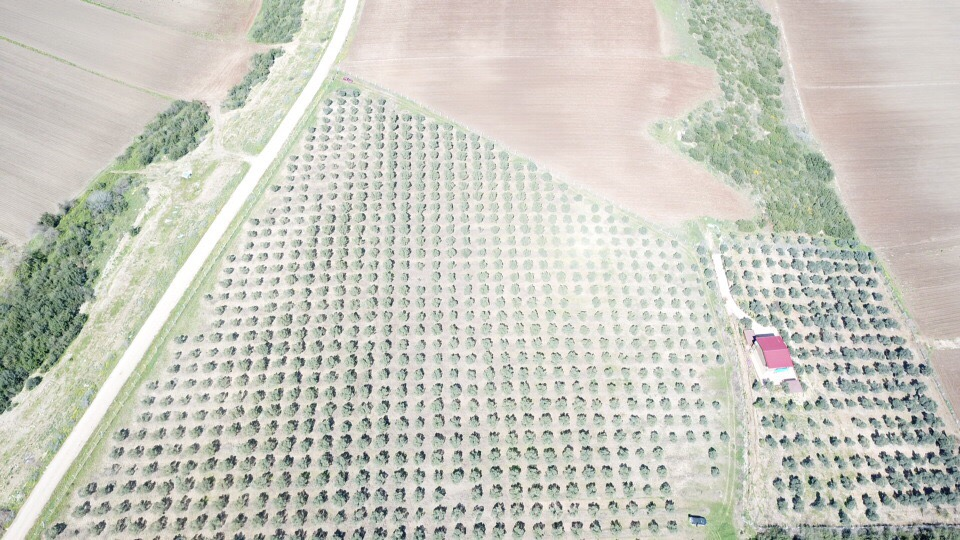oliveTree: (938, 438, 958, 462), (78, 520, 106, 537), (905, 469, 926, 489), (42, 523, 66, 540), (942, 464, 960, 486), (153, 496, 173, 515), (886, 468, 905, 488), (766, 300, 791, 315), (920, 468, 942, 485), (107, 517, 126, 536), (238, 438, 259, 455), (352, 487, 371, 505), (257, 454, 277, 471), (196, 475, 216, 492), (335, 451, 353, 469), (209, 512, 227, 530), (230, 515, 248, 533), (908, 489, 926, 507), (220, 455, 239, 472), (128, 518, 147, 535), (150, 516, 169, 533), (251, 510, 268, 529), (272, 492, 291, 509), (331, 489, 350, 506), (930, 429, 949, 446), (261, 436, 279, 453), (316, 452, 334, 469), (490, 522, 507, 540), (919, 394, 936, 412), (925, 488, 943, 505), (117, 480, 137, 495), (278, 454, 295, 471), (157, 479, 174, 496), (233, 493, 250, 510), (73, 502, 91, 518), (176, 477, 194, 493), (173, 496, 191, 512), (190, 514, 208, 530), (213, 494, 231, 510), (312, 489, 328, 507), (349, 506, 367, 522), (944, 489, 960, 507), (200, 457, 219, 472), (915, 428, 934, 443), (841, 347, 864, 359), (300, 418, 316, 435), (318, 418, 335, 434), (374, 416, 391, 432), (317, 435, 334, 451), (280, 437, 297, 453), (203, 440, 220, 456), (147, 444, 164, 460), (240, 456, 257, 472), (525, 464, 542, 480), (333, 471, 350, 487), (256, 472, 273, 488), (292, 510, 308, 527), (431, 505, 448, 521), (507, 482, 524, 498), (92, 501, 110, 516), (98, 481, 116, 496), (300, 436, 315, 454), (277, 471, 292, 489), (511, 520, 526, 538), (827, 311, 842, 329), (112, 500, 131, 514), (170, 425, 186, 441), (356, 417, 372, 433), (374, 433, 390, 449), (237, 474, 253, 490), (252, 493, 268, 509), (272, 510, 288, 526), (872, 429, 888, 445), (894, 489, 910, 505), (265, 403, 282, 418), (284, 402, 301, 417), (354, 452, 371, 467), (138, 480, 155, 495), (192, 496, 209, 511), (452, 523, 467, 540), (789, 474, 804, 491), (79, 483, 97, 497), (162, 462, 180, 476), (904, 398, 922, 412), (134, 500, 153, 513), (813, 315, 832, 328), (274, 341, 290, 356), (342, 369, 358, 384), (340, 386, 356, 401), (250, 389, 266, 404), (229, 405, 245, 420), (572, 396, 587, 412), (245, 421, 260, 437), (283, 420, 298, 436), (592, 413, 607, 429), (431, 432, 446, 448), (357, 434, 372, 450), (337, 435, 353, 450), (142, 461, 158, 476), (182, 460, 198, 475), (468, 449, 483, 465), (506, 447, 522, 462), (355, 469, 371, 484), (218, 474, 234, 489), (292, 491, 307, 507), (329, 510, 345, 525), (370, 508, 386, 523), (373, 488, 388, 504), (253, 357, 270, 371), (320, 402, 337, 416), (113, 429, 130, 443), (412, 467, 426, 484), (451, 504, 465, 521), (622, 481, 636, 498), (888, 397, 905, 411), (829, 288, 847, 301), (811, 491, 824, 509), (291, 340, 306, 355), (375, 400, 390, 415), (502, 398, 517, 413), (520, 397, 535, 412), (264, 420, 279, 435), (538, 413, 553, 428), (375, 450, 390, 465), (450, 450, 465, 465), (544, 465, 559, 480), (393, 468, 408, 483), (316, 471, 331, 486), (312, 509, 327, 524), (392, 488, 407, 503), (392, 525, 407, 540), (549, 501, 564, 516), (842, 316, 857, 331), (913, 380, 928, 395), (272, 357, 288, 371), (268, 388, 284, 402), (232, 389, 248, 403), (358, 402, 374, 416), (129, 446, 145, 460), (225, 423, 241, 437), (521, 413, 535, 429), (449, 432, 463, 448), (167, 443, 183, 457), (412, 450, 426, 466), (491, 502, 505, 518), (587, 501, 601, 517), (821, 259, 835, 275), (900, 430, 916, 444), (255, 343, 272, 356), (130, 427, 147, 440), (207, 425, 224, 438), (395, 432, 408, 449), (184, 443, 201, 456), (431, 449, 444, 466), (580, 446, 593, 463), (451, 467, 464, 484), (413, 486, 426, 503), (897, 347, 914, 360), (309, 341, 324, 355), (325, 355, 340, 369), (308, 356, 323, 370), (394, 383, 408, 398), (305, 386, 319, 401), (303, 402, 317, 417), (395, 416, 409, 431), (431, 414, 445, 429), (486, 413, 500, 428), (540, 430, 554, 445), (412, 433, 426, 448), (297, 455, 312, 469), (487, 447, 501, 462), (524, 447, 539, 461), (582, 464, 596, 479), (563, 465, 577, 480), (507, 465, 522, 479), (297, 471, 311, 486), (432, 486, 446, 501), (394, 507, 409, 521), (510, 502, 524, 517), (532, 523, 547, 537), (529, 483, 543, 498), (749, 298, 764, 312), (819, 329, 834, 343), (816, 362, 831, 376), (904, 361, 918, 376), (883, 377, 898, 391), (868, 380, 883, 394), (772, 414, 786, 429), (277, 313, 293, 326), (275, 328, 291, 341), (326, 339, 342, 352), (219, 360, 235, 373), (501, 364, 514, 380), (376, 386, 392, 399), (323, 385, 336, 401), (505, 430, 518, 446), (395, 451, 408, 467), (552, 521, 565, 537), (873, 361, 889, 374), (852, 379, 868, 392), (792, 494, 805, 510), (137, 411, 154, 423), (211, 407, 228, 419), (922, 414, 942, 424), (296, 313, 310, 327), (235, 373, 249, 387), (287, 386, 301, 400), (430, 398, 444, 412), (628, 414, 642, 428), (560, 429, 574, 443), (489, 465, 503, 479), (433, 526, 447, 540), (889, 361, 903, 375), (877, 491, 891, 505), (259, 329, 274, 342), (290, 357, 305, 370), (288, 371, 303, 384), (307, 371, 322, 384), (324, 371, 339, 384), (501, 381, 514, 396), (484, 381, 497, 396), (214, 391, 229, 404), (248, 405, 263, 418), (660, 481, 673, 496), (190, 425, 203, 440), (579, 429, 592, 444), (523, 430, 536, 445), (618, 462, 631, 477), (469, 467, 482, 482), (529, 502, 542, 517), (755, 314, 770, 327), (838, 378, 851, 393), (782, 456, 797, 469), (841, 474, 854, 489), (311, 327, 327, 339), (242, 330, 258, 342), (270, 372, 286, 384), (192, 409, 208, 421), (342, 402, 354, 418), (109, 447, 125, 459), (630, 520, 642, 536), (879, 451, 895, 463), (104, 465, 121, 476), (365, 296, 379, 309), (329, 312, 343, 325), (344, 354, 358, 367), (238, 358, 252, 371), (217, 376, 231, 389), (483, 366, 496, 380), (430, 383, 444, 396), (554, 397, 568, 410), (152, 428, 166, 441), (339, 420, 353, 433), (611, 414, 624, 428), (613, 429, 627, 442), (561, 445, 574, 459), (601, 465, 614, 479), (471, 485, 484, 499), (474, 524, 487, 538), (373, 527, 387, 540), (547, 483, 561, 496), (567, 502, 580, 516), (610, 520, 623, 534), (647, 520, 660, 534), (791, 258, 805, 271), (807, 260, 821, 273), (857, 289, 871, 302), (870, 317, 884, 330), (918, 363, 932, 376), (772, 478, 785, 492), (329, 325, 344, 337), (344, 340, 359, 352), (202, 361, 217, 373), (588, 380, 600, 395), (450, 383, 462, 398), (360, 384, 372, 399), (195, 392, 210, 404), (505, 414, 517, 429), (488, 431, 500, 446), (544, 448, 556, 463), (598, 446, 610, 461), (617, 446, 629, 461), (414, 525, 426, 540), (626, 501, 638, 516), (797, 273, 812, 285), (883, 317, 898, 329), (857, 396, 872, 408), (793, 433, 808, 445), (857, 433, 869, 448), (292, 328, 308, 339), (208, 332, 224, 343), (469, 431, 480, 447), (639, 464, 650, 480), (605, 482, 616, 498), (890, 335, 906, 346), (513, 323, 526, 336), (480, 323, 493, 336), (431, 323, 444, 336), (360, 369, 373, 382), (377, 368, 390, 381), (552, 366, 565, 379), (539, 397, 552, 410), (353, 527, 366, 540), (770, 315, 783, 328), (837, 275, 850, 288), (888, 432, 901, 445), (896, 451, 909, 464), (808, 475, 821, 488), (862, 494, 875, 507), (872, 474, 885, 487), (304, 249, 318, 261), (285, 274, 299, 286), (332, 285, 346, 297), (364, 311, 378, 323), (534, 366, 546, 380), (620, 366, 632, 380), (572, 381, 584, 395), (519, 381, 531, 395), (467, 383, 479, 397), (413, 384, 427, 396), (160, 396, 174, 408), (157, 410, 171, 422), (591, 397, 603, 411), (609, 397, 621, 411), (660, 397, 672, 411), (123, 464, 137, 476), (413, 416, 425, 430), (468, 414, 480, 428), (432, 469, 444, 483), (376, 470, 388, 484), (472, 506, 484, 520), (490, 484, 502, 498), (590, 520, 602, 534), (585, 482, 597, 496), (645, 501, 657, 515), (846, 361, 858, 375), (838, 509, 850, 523), (844, 494, 856, 508), (865, 508, 879, 520), (260, 316, 275, 327), (627, 396, 638, 411), (925, 453, 940, 464), (866, 349, 882, 359), (851, 418, 867, 428), (336, 236, 349, 248), (319, 259, 332, 271), (351, 260, 364, 272), (382, 296, 395, 308), (332, 298, 345, 310), (529, 324, 542, 336), (363, 325, 376, 337), (448, 337, 460, 350), (548, 337, 560, 350), (449, 353, 462, 365), (398, 352, 410, 365), (380, 353, 393, 365), (254, 374, 267, 386), (396, 368, 408, 381), (413, 368, 425, 381), (569, 366, 581, 379), (674, 382, 686, 395), (554, 381, 566, 394), (395, 401, 407, 414), (467, 399, 479, 412), (677, 398, 690, 410), (646, 414, 658, 427), (656, 466, 668, 479), (449, 416, 461, 429), (558, 413, 570, 426), (571, 522, 584, 534), (740, 317, 753, 329), (853, 251, 866, 263), (720, 255, 733, 267), (808, 301, 821, 313), (857, 318, 870, 330), (822, 380, 835, 392), (815, 395, 827, 408), (850, 454, 863, 466), (337, 224, 351, 235), (335, 248, 349, 259), (302, 274, 316, 285), (346, 326, 360, 337), (483, 351, 494, 365), (363, 353, 374, 367), (518, 366, 529, 380), (179, 394, 193, 405), (450, 398, 461, 412), (576, 414, 587, 428), (414, 507, 425, 521), (567, 482, 578, 496), (850, 275, 864, 286), (799, 315, 813, 326), (802, 286, 816, 297), (844, 288, 858, 299), (836, 303, 850, 314), (824, 348, 838, 359), (899, 382, 913, 393), (873, 397, 887, 408), (908, 416, 922, 427), (864, 455, 879, 465), (383, 271, 395, 283), (447, 297, 459, 309), (349, 298, 361, 310), (563, 324, 575, 336), (381, 325, 393, 337), (241, 344, 253, 356), (379, 339, 391, 351), (564, 338, 576, 350), (533, 352, 545, 364), (623, 382, 635, 394), (536, 383, 548, 395), (414, 400, 426, 412), (667, 520, 679, 532), (608, 502, 620, 514), (731, 283, 743, 295), (791, 331, 803, 343), (788, 286, 800, 298), (871, 290, 883, 302), (877, 334, 889, 346), (884, 416, 896, 428), (340, 202, 353, 213), (399, 224, 412, 235), (307, 225, 320, 236), (353, 235, 366, 246), (335, 260, 348, 271), (366, 260, 379, 271), (334, 273, 347, 284), (299, 287, 312, 298), (512, 296, 523, 309), (298, 300, 311, 311), (348, 312, 361, 323), (432, 310, 443, 323), (498, 323, 509, 336), (223, 346, 236, 357), (361, 341, 374, 352), (481, 337, 492, 350), (664, 337, 675, 350), (566, 352, 579, 363), (516, 352, 529, 363), (465, 353, 478, 364), (164, 380, 177, 391), (586, 366, 597, 379), (486, 398, 497, 411), (805, 332, 818, 343), (774, 287, 787, 298), (783, 273, 796, 284), (797, 348, 810, 359), (793, 362, 804, 375), (765, 434, 776, 447), (779, 435, 790, 448), (815, 453, 828, 464), (225, 332, 239, 342), (185, 364, 199, 374), (146, 380, 160, 390), (182, 379, 196, 389), (199, 378, 213, 388), (646, 397, 656, 411), (632, 430, 642, 444), (858, 264, 872, 274), (865, 278, 879, 288), (810, 275, 824, 285), (174, 335, 189, 344), (142, 396, 157, 405), (384, 213, 396, 224), (399, 212, 411, 223), (461, 247, 472, 259), (400, 247, 412, 258), (353, 247, 365, 258), (322, 248, 334, 259), (383, 259, 395, 270), (478, 271, 490, 282), (654, 297, 665, 309), (464, 297, 476, 308), (398, 298, 410, 309), (317, 299, 329, 310), (512, 311, 524, 322), (545, 309, 556, 321), (577, 310, 588, 322), (448, 324, 460, 335), (414, 324, 425, 336), (398, 325, 410, 336), (397, 339, 409, 350), (532, 337, 543, 349), (582, 338, 593, 350), (599, 337, 610, 349), (631, 339, 643, 350), (551, 353, 563, 364), (433, 353, 444, 365), (416, 352, 427, 364), (432, 368, 443, 380), (603, 366, 614, 378), (653, 366, 664, 378), (606, 382, 617, 394), (597, 431, 608, 443), (840, 250, 852, 261), (760, 244, 772, 255), (746, 285, 758, 296), (834, 261, 845, 273), (816, 288, 828, 299), (849, 332, 860, 344), (896, 416, 907, 428), (912, 452, 923, 464), (834, 456, 845, 468), (856, 472, 867, 484), (472, 191, 485, 201), (354, 202, 367, 212), (321, 237, 334, 247), (382, 248, 395, 258), (528, 297, 538, 310), (281, 301, 294, 311), (399, 310, 409, 323), (548, 322, 558, 335), (617, 352, 630, 362), (167, 364, 180, 374), (638, 367, 648, 380), (175, 411, 188, 421), (694, 397, 704, 410), (664, 414, 674, 427), (653, 446, 663, 459), (665, 499, 675, 512), (741, 271, 754, 281), (793, 303, 806, 313), (777, 259, 790, 269), (862, 333, 875, 343), (769, 399, 782, 409), (830, 398, 843, 408), (270, 264, 284, 273), (264, 303, 278, 312), (205, 348, 219, 357), (330, 531, 344, 540), (752, 398, 766, 407), (430, 224, 441, 235), (415, 224, 426, 235), (385, 235, 396, 246), (611, 236, 622, 247), (523, 259, 534, 270), (541, 271, 552, 282), (509, 272, 520, 283), (493, 271, 504, 282), (367, 272, 378, 283), (268, 289, 279, 300), (432, 284, 443, 295), (479, 284, 490, 295), (510, 284, 521, 295), (541, 284, 552, 295), (557, 285, 568, 296), (480, 297, 491, 308), (496, 311, 507, 322), (657, 311, 668, 322), (673, 311, 684, 322), (677, 326, 688, 337), (415, 340, 426, 351), (584, 352, 595, 363), (501, 351, 512, 362), (681, 414, 692, 425), (703, 268, 714, 279), (780, 331, 791, 342), (826, 277, 837, 288), (785, 399, 796, 410), (388, 110, 398, 122), (414, 113, 426, 123), (302, 153, 314, 163), (484, 161, 496, 171), (399, 161, 411, 171), (400, 171, 412, 181), (429, 171, 441, 181), (457, 171, 469, 181), (356, 191, 368, 201), (458, 202, 470, 212), (400, 202, 412, 212), (324, 214, 336, 224), (354, 213, 366, 223), (323, 225, 335, 235), (287, 262, 299, 272), (303, 261, 315, 271), (572, 271, 582, 283), (319, 273, 331, 283), (235, 291, 247, 301), (283, 288, 295, 298), (317, 286, 329, 296), (383, 285, 395, 295), (215, 305, 227, 315), (245, 316, 257, 326), (383, 311, 393, 323), (448, 310, 458, 322), (190, 348, 202, 358), (516, 338, 526, 350), (668, 352, 678, 364), (650, 353, 662, 363), (449, 368, 459, 380), (710, 466, 720, 478), (686, 430, 696, 442), (668, 432, 678, 444), (643, 484, 653, 496), (845, 263, 857, 273), (802, 248, 814, 258), (788, 247, 800, 257), (863, 305, 875, 315), (884, 350, 896, 360), (827, 477, 837, 489), (455, 142, 468, 151), (496, 296, 505, 309), (500, 338, 509, 351), (708, 447, 717, 460), (650, 430, 659, 443), (788, 344, 797, 357), (401, 112, 412, 122), (455, 131, 466, 141), (387, 150, 398, 160), (499, 151, 509, 162), (386, 161, 397, 171), (287, 163, 298, 173), (444, 171, 455, 181), (415, 181, 426, 191), (401, 181, 412, 191), (386, 181, 397, 191), (532, 202, 543, 212), (518, 202, 528, 213), (488, 203, 499, 213), (415, 203, 426, 213), (369, 213, 380, 223), (534, 225, 545, 235), (461, 224, 471, 235), (355, 225, 366, 235), (307, 238, 318, 248), (370, 235, 380, 246), (416, 236, 426, 247), (431, 236, 442, 246), (445, 236, 456, 246), (491, 237, 502, 247), (536, 235, 546, 246), (580, 237, 591, 247), (508, 248, 518, 259), (447, 247, 457, 258), (370, 248, 380, 259), (400, 259, 410, 270), (463, 273, 474, 283), (351, 273, 362, 283), (367, 285, 378, 295), (494, 284, 505, 294), (526, 284, 536, 295), (668, 286, 678, 297), (685, 300, 696, 310), (670, 298, 681, 308), (433, 297, 443, 308), (416, 298, 426, 309), (315, 314, 326, 324), (480, 311, 491, 321), (562, 311, 572, 322), (642, 311, 652, 322), (661, 324, 671, 335), (612, 324, 623, 334), (465, 325, 476, 335), (433, 339, 443, 350), (466, 338, 476, 349), (616, 337, 626, 348), (648, 339, 658, 350), (672, 368, 682, 379), (658, 383, 668, 394), (635, 448, 645, 459), (697, 245, 707, 256), (765, 257, 776, 267), (850, 305, 861, 315), (803, 365, 814, 375), (833, 363, 843, 374), (862, 365, 873, 375), (812, 437, 823, 447), (829, 436, 840, 446), (801, 457, 812, 467), (320, 124, 332, 133), (401, 131, 413, 140), (401, 141, 413, 150), (359, 141, 371, 150), (414, 152, 426, 161), (456, 152, 468, 161), (471, 161, 483, 170), (429, 161, 441, 170), (414, 171, 426, 180), (471, 171, 483, 180), (444, 182, 456, 191), (370, 192, 382, 201), (263, 217, 275, 226), (339, 214, 351, 223), (519, 225, 531, 234), (255, 265, 267, 274), (220, 279, 232, 288), (349, 287, 361, 296), (467, 369, 476, 381), (786, 317, 795, 329), (845, 398, 857, 407), (777, 497, 786, 509), (212, 320, 225, 328), (527, 162, 537, 172), (373, 160, 383, 170), (358, 161, 368, 171), (501, 172, 511, 182), (515, 172, 525, 182), (416, 192, 426, 202), (488, 192, 498, 202), (561, 204, 571, 214), (415, 213, 425, 223), (489, 214, 499, 224), (519, 215, 529, 225), (548, 214, 558, 224), (563, 215, 573, 225), (400, 236, 410, 246), (521, 236, 531, 246), (626, 237, 636, 247), (538, 248, 548, 258), (492, 248, 502, 258), (493, 259, 503, 269), (509, 260, 519, 270), (539, 260, 549, 270), (557, 272, 567, 282), (525, 272, 535, 282), (252, 290, 262, 300), (400, 285, 410, 295), (416, 286, 426, 296), (447, 285, 457, 295), (589, 285, 599, 295), (623, 298, 633, 308), (465, 311, 475, 321), (529, 311, 539, 321), (626, 311, 636, 321), (689, 313, 699, 323), (692, 326, 702, 336), (629, 325, 639, 335), (580, 325, 590, 335), (696, 340, 706, 350), (691, 384, 701, 394), (702, 430, 712, 440), (706, 280, 716, 290), (770, 234, 780, 244), (817, 249, 827, 259), (726, 270, 736, 280), (761, 288, 771, 298), (807, 417, 817, 427), (428, 122, 439, 131), (415, 123, 426, 132), (334, 124, 345, 133), (373, 132, 384, 141), (469, 132, 480, 141), (484, 142, 495, 151), (428, 141, 439, 150), (387, 141, 398, 150), (358, 151, 369, 160), (400, 151, 411, 160), (470, 151, 481, 160), (499, 162, 510, 171), (343, 171, 354, 180), (485, 172, 496, 181), (542, 173, 553, 182), (342, 192, 353, 201), (386, 192, 397, 201), (429, 192, 440, 201), (459, 192, 470, 201), (516, 192, 527, 201), (279, 216, 290, 225), (565, 225, 576, 234), (550, 226, 561, 235), (490, 225, 501, 234), (446, 224, 455, 235), (384, 225, 395, 234), (565, 237, 576, 246), (676, 262, 685, 273), (289, 250, 300, 259), (446, 261, 457, 270), (587, 272, 596, 283), (464, 284, 473, 295), (574, 284, 583, 295), (605, 285, 614, 296), (592, 297, 601, 308), (544, 297, 553, 308), (417, 311, 426, 322), (595, 311, 604, 322), (611, 310, 620, 321), (645, 325, 654, 336), (680, 339, 689, 350), (683, 354, 694, 363), (635, 352, 644, 363), (642, 383, 651, 394), (720, 431, 729, 442), (849, 239, 860, 248), (771, 274, 782, 283), (752, 380, 761, 391), (761, 416, 770, 427), (374, 114, 386, 122), (318, 134, 330, 142), (441, 132, 453, 140), (373, 141, 385, 149), (484, 152, 496, 160), (357, 182, 369, 190), (291, 240, 303, 248), (193, 334, 205, 342), (701, 353, 709, 365), (843, 437, 855, 445), (875, 306, 888, 313), (346, 132, 356, 141), (443, 141, 453, 150), (415, 141, 425, 150), (345, 151, 355, 160), (514, 162, 524, 171), (527, 173, 537, 182), (544, 183, 554, 192), (559, 183, 569, 192), (529, 182, 539, 191), (515, 182, 525, 191), (488, 182, 498, 191), (459, 182, 469, 191), (430, 182, 440, 191), (373, 181, 383, 190), (328, 182, 338, 191), (445, 192, 455, 201), (502, 192, 512, 201), (531, 192, 541, 201), (545, 193, 555, 202), (547, 203, 557, 212), (504, 202, 513, 212), (430, 203, 440, 212), (386, 202, 396, 211), (312, 203, 322, 212), (281, 205, 291, 214), (431, 213, 440, 223), (460, 214, 470, 223), (475, 214, 485, 223), (505, 214, 515, 223), (534, 214, 543, 224), (580, 225, 590, 234), (506, 225, 516, 234), (370, 225, 380, 234), (262, 228, 272, 237), (244, 242, 254, 251), (462, 236, 471, 246), (552, 237, 561, 247), (595, 238, 605, 247), (641, 238, 650, 248), (655, 239, 665, 248), (691, 262, 700, 272), (477, 248, 487, 257), (417, 248, 426, 258), (479, 259, 488, 269), (631, 260, 640, 270), (664, 273, 673, 283), (634, 273, 643, 283), (432, 272, 441, 282), (270, 277, 280, 286), (652, 286, 661, 296), (640, 298, 649, 308), (559, 298, 568, 308), (233, 305, 243, 314), (702, 313, 712, 322), (708, 327, 717, 337), (715, 355, 725, 364), (602, 352, 611, 362), (689, 368, 698, 378), (698, 415, 707, 425), (699, 257, 709, 266), (834, 238, 844, 247), (812, 346, 821, 356), (871, 419, 881, 428), (828, 498, 837, 508), (322, 107, 333, 115), (401, 123, 412, 131), (388, 123, 399, 131), (374, 123, 385, 131), (387, 132, 398, 140), (428, 132, 439, 140), (331, 142, 342, 150), (415, 162, 426, 170), (372, 171, 383, 179), (386, 172, 397, 180), (249, 218, 260, 226), (310, 215, 321, 223), (591, 215, 602, 223), (273, 252, 284, 260), (257, 253, 268, 261), (242, 254, 253, 262), (239, 266, 250, 274), (432, 260, 440, 271), (619, 272, 627, 283), (219, 293, 230, 301), (230, 318, 241, 326), (597, 323, 605, 334), (752, 260, 763, 268), (415, 132, 424, 141), (443, 152, 452, 161), (299, 194, 308, 203), (559, 194, 568, 203), (605, 205, 614, 214), (475, 203, 484, 212), (445, 203, 454, 212), (445, 214, 454, 223), (577, 214, 586, 223), (595, 226, 604, 235), (477, 237, 486, 246), (507, 236, 516, 245), (683, 287, 692, 296), (811, 237, 820, 246), (868, 251, 877, 260), (363, 106, 373, 114), (443, 123, 453, 131), (362, 123, 372, 131), (361, 132, 371, 140), (471, 142, 481, 150), (318, 143, 328, 151), (317, 153, 327, 161), (373, 151, 383, 159), (429, 151, 439, 159), (457, 163, 467, 171), (444, 162, 454, 170), (346, 161, 356, 169), (315, 173, 325, 181), (357, 172, 367, 180), (473, 182, 483, 190), (344, 182, 354, 190), (271, 185, 281, 193), (313, 194, 323, 202), (401, 192, 411, 200), (372, 203, 382, 211), (278, 229, 288, 237), (448, 272, 456, 282), (401, 272, 409, 282), (254, 278, 264, 286), (204, 293, 214, 301), (609, 298, 617, 308), (797, 236, 807, 244), (829, 250, 839, 258), (775, 247, 785, 255), (835, 332, 843, 342), (801, 381, 809, 391), (804, 401, 812, 411), (300, 174, 311, 181), (327, 193, 338, 200), (248, 305, 259, 312), (822, 301, 833, 308), (352, 89, 361, 97), (324, 98, 333, 106), (350, 106, 359, 114), (337, 106, 346, 114), (317, 163, 326, 171), (302, 164, 311, 172), (300, 183, 308, 192), (285, 185, 294, 193), (574, 194, 583, 202), (591, 204, 599, 213), (327, 204, 336, 212), (295, 216, 304, 224), (607, 215, 615, 224), (624, 226, 632, 235), (610, 226, 618, 235), (262, 241, 271, 249), (670, 239, 678, 248), (673, 252, 682, 260), (645, 250, 653, 259), (629, 250, 637, 259), (523, 249, 531, 258), (431, 249, 440, 257), (227, 254, 236, 262), (222, 268, 234, 274), (416, 262, 425, 270), (617, 262, 625, 271), (646, 262, 655, 270), (649, 274, 657, 283), (239, 278, 248, 286), (622, 286, 630, 295), (637, 287, 645, 296), (713, 341, 721, 350), (739, 259, 748, 267), (336, 98, 346, 105), (362, 115, 372, 122), (305, 135, 315, 142), (333, 134, 343, 141), (266, 208, 276, 215), (247, 231, 257, 238), (604, 272, 611, 282), (823, 419, 833, 426), (502, 183, 510, 191), (622, 215, 630, 223), (639, 227, 647, 235), (659, 251, 667, 259), (662, 262, 670, 270), (823, 238, 831, 246), (736, 245, 744, 253), (338, 90, 347, 97), (350, 98, 359, 105), (335, 116, 344, 123), (348, 124, 357, 131), (307, 126, 316, 133), (347, 142, 356, 149), (304, 144, 313, 151), (330, 173, 339, 180), (283, 196, 292, 203), (294, 229, 303, 236), (277, 241, 286, 248), (464, 261, 471, 270), (873, 265, 882, 272), (289, 155, 299, 161), (331, 153, 341, 159), (379, 98, 386, 106), (377, 106, 385, 113), (331, 163, 339, 170), (286, 175, 294, 182), (297, 206, 305, 213), (615, 250, 622, 258), (712, 401, 719, 409), (757, 234, 765, 241), (720, 245, 728, 252), (322, 117, 331, 123), (349, 116, 358, 122), (175, 351, 181, 360), (365, 98, 372, 105), (702, 303, 709, 310), (478, 226, 484, 233), (698, 290, 704, 297), (749, 248, 756, 254), (758, 275, 763, 283), (730, 233, 736, 239), (745, 234, 751, 240), (784, 237, 790, 243), (681, 278, 686, 285), (696, 278, 701, 284), (717, 233, 721, 238)
